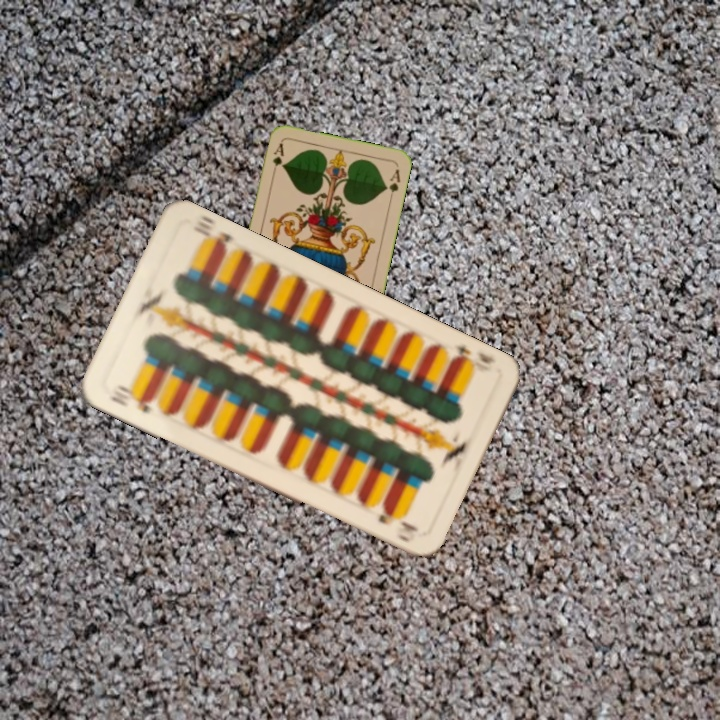E10: (107, 380, 158, 416), (447, 340, 499, 375)
GA: (268, 139, 286, 179)
